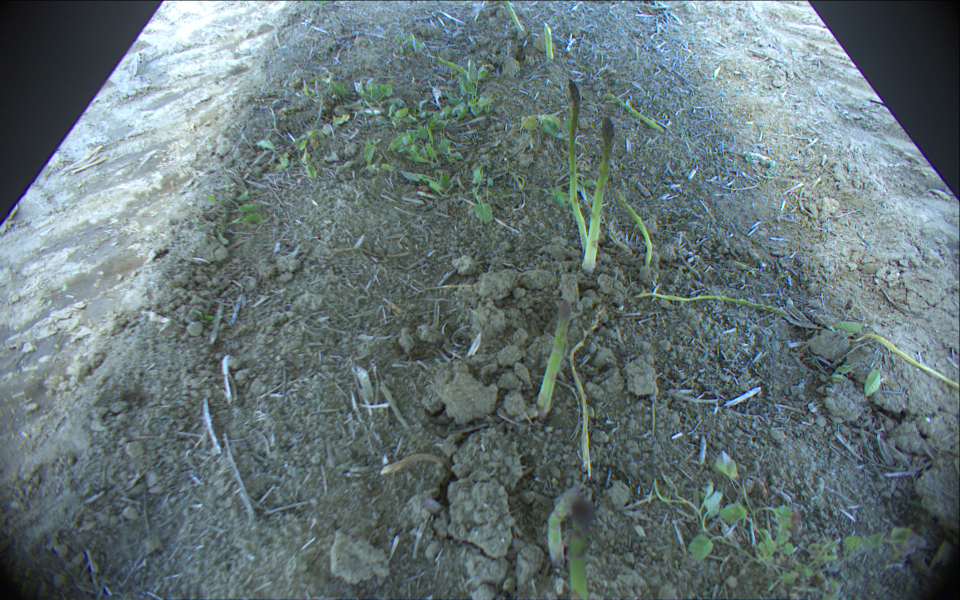aspa: (635, 293, 960, 392), (568, 305, 602, 476), (579, 114, 613, 273), (536, 282, 575, 418), (568, 80, 589, 254), (611, 186, 653, 265), (545, 485, 579, 571), (602, 90, 665, 132), (565, 503, 591, 600), (501, 1, 525, 32), (544, 22, 554, 60)
